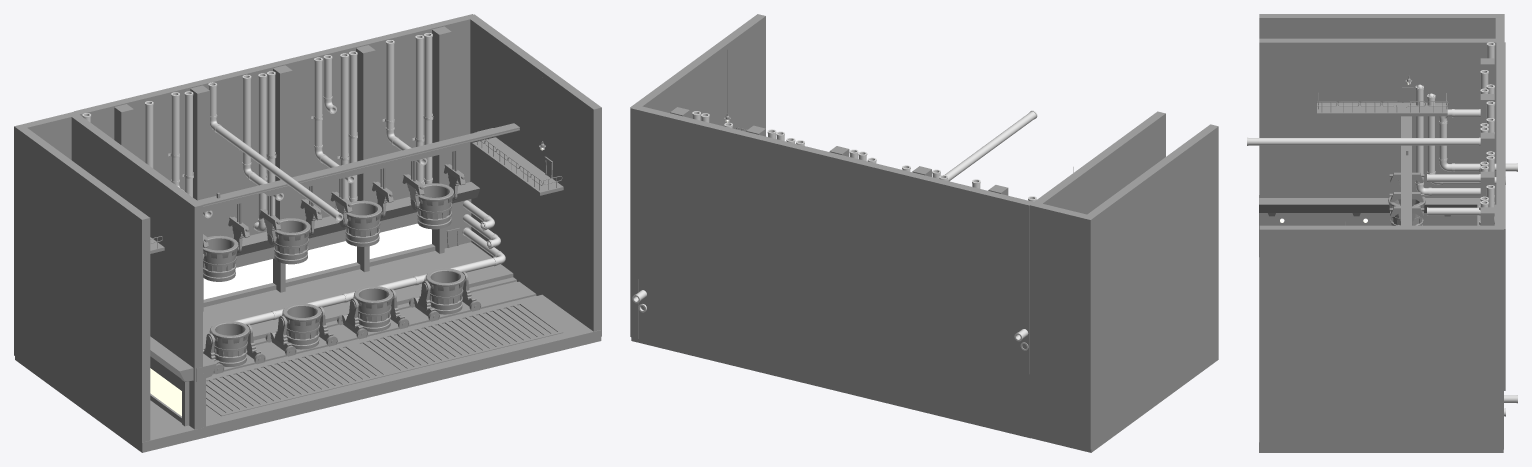
Rendered from factory.fbx.
The picture shows the model from 3 angles, left to right: view 1: azimuth 30°, elevation 25°; view 2: azimuth 150°, elevation 25°; view 3: azimuth 270°, elevation 25°; orthographic projection. The views are drawn at different scales.
Parts seen in each view (by area): view 1: pCube28, pCube27, pCube8, pCube21, pCube24, pCylinder1 (×8), pPlane1, ribbon_windows, polySurface3 (×6), pCube9, pCube15, pCube14 (+26 smaller); view 2: pCube21, pCube28, pCube9, pCube30, pCube27, pCube24, Pipe_32, pCube29; view 3: pCube27, pCube24, pCube28, pCube41, pCube21, pCube25, Pipe_32, pCube42, pCube8, Pipe_7, pCube33, Pipe_10 (+11 smaller).
Part boxes in pixels (x1=…): pCube28: x1=15, y1=125, x2=150, y2=448; pCube27: x1=470, y1=14, x2=601, y2=336; pCube8: x1=202, y1=242, x2=601, y2=437; pCube21: x1=74, y1=14, x2=476, y2=238; pCube24: x1=69, y1=112, x2=202, y2=429; pCylinder1 (×8): x1=203, y1=183, x2=464, y2=366; pPlane1: x1=206, y1=302, x2=563, y2=416; ribbon_windows: x1=203, y1=223, x2=431, y2=299; polySurface3 (×6): x1=259, y1=164, x2=476, y2=351; pCube9: x1=203, y1=199, x2=471, y2=307; pCube15: x1=432, y1=26, x2=451, y2=185; pCube14: x1=356, y1=45, x2=375, y2=202; pCube21: x1=630, y1=104, x2=1033, y2=374; pCube28: x1=1084, y1=124, x2=1218, y2=445; pCube9: x1=631, y1=279, x2=1030, y2=438; pCube30: x1=1030, y1=202, x2=1095, y2=449; pCube27: x1=630, y1=14, x2=765, y2=338; pCube24: x1=1032, y1=111, x2=1165, y2=214; Pipe_32: x1=944, y1=110, x2=1037, y2=181; pCube29: x1=1030, y1=356, x2=1218, y2=452; pCube27: x1=1259, y1=225, x2=1503, y2=449; pCube24: x1=1259, y1=38, x2=1503, y2=225; pCube28: x1=1259, y1=14, x2=1503, y2=38; pCube41: x1=1259, y1=195, x2=1480, y2=212; pCube21: x1=1496, y1=42, x2=1505, y2=390; pCube25: x1=1317, y1=102, x2=1447, y2=116; Pipe_32: x1=1247, y1=137, x2=1480, y2=145; pCube42: x1=1259, y1=213, x2=1444, y2=257; pCube8: x1=1259, y1=257, x2=1503, y2=452; Pipe_7: x1=1415, y1=88, x2=1423, y2=185; pCube33: x1=1401, y1=116, x2=1411, y2=172; Pipe_10: x1=1427, y1=97, x2=1435, y2=174.
Size of the model in its own units: 213 by 104 by 113.
